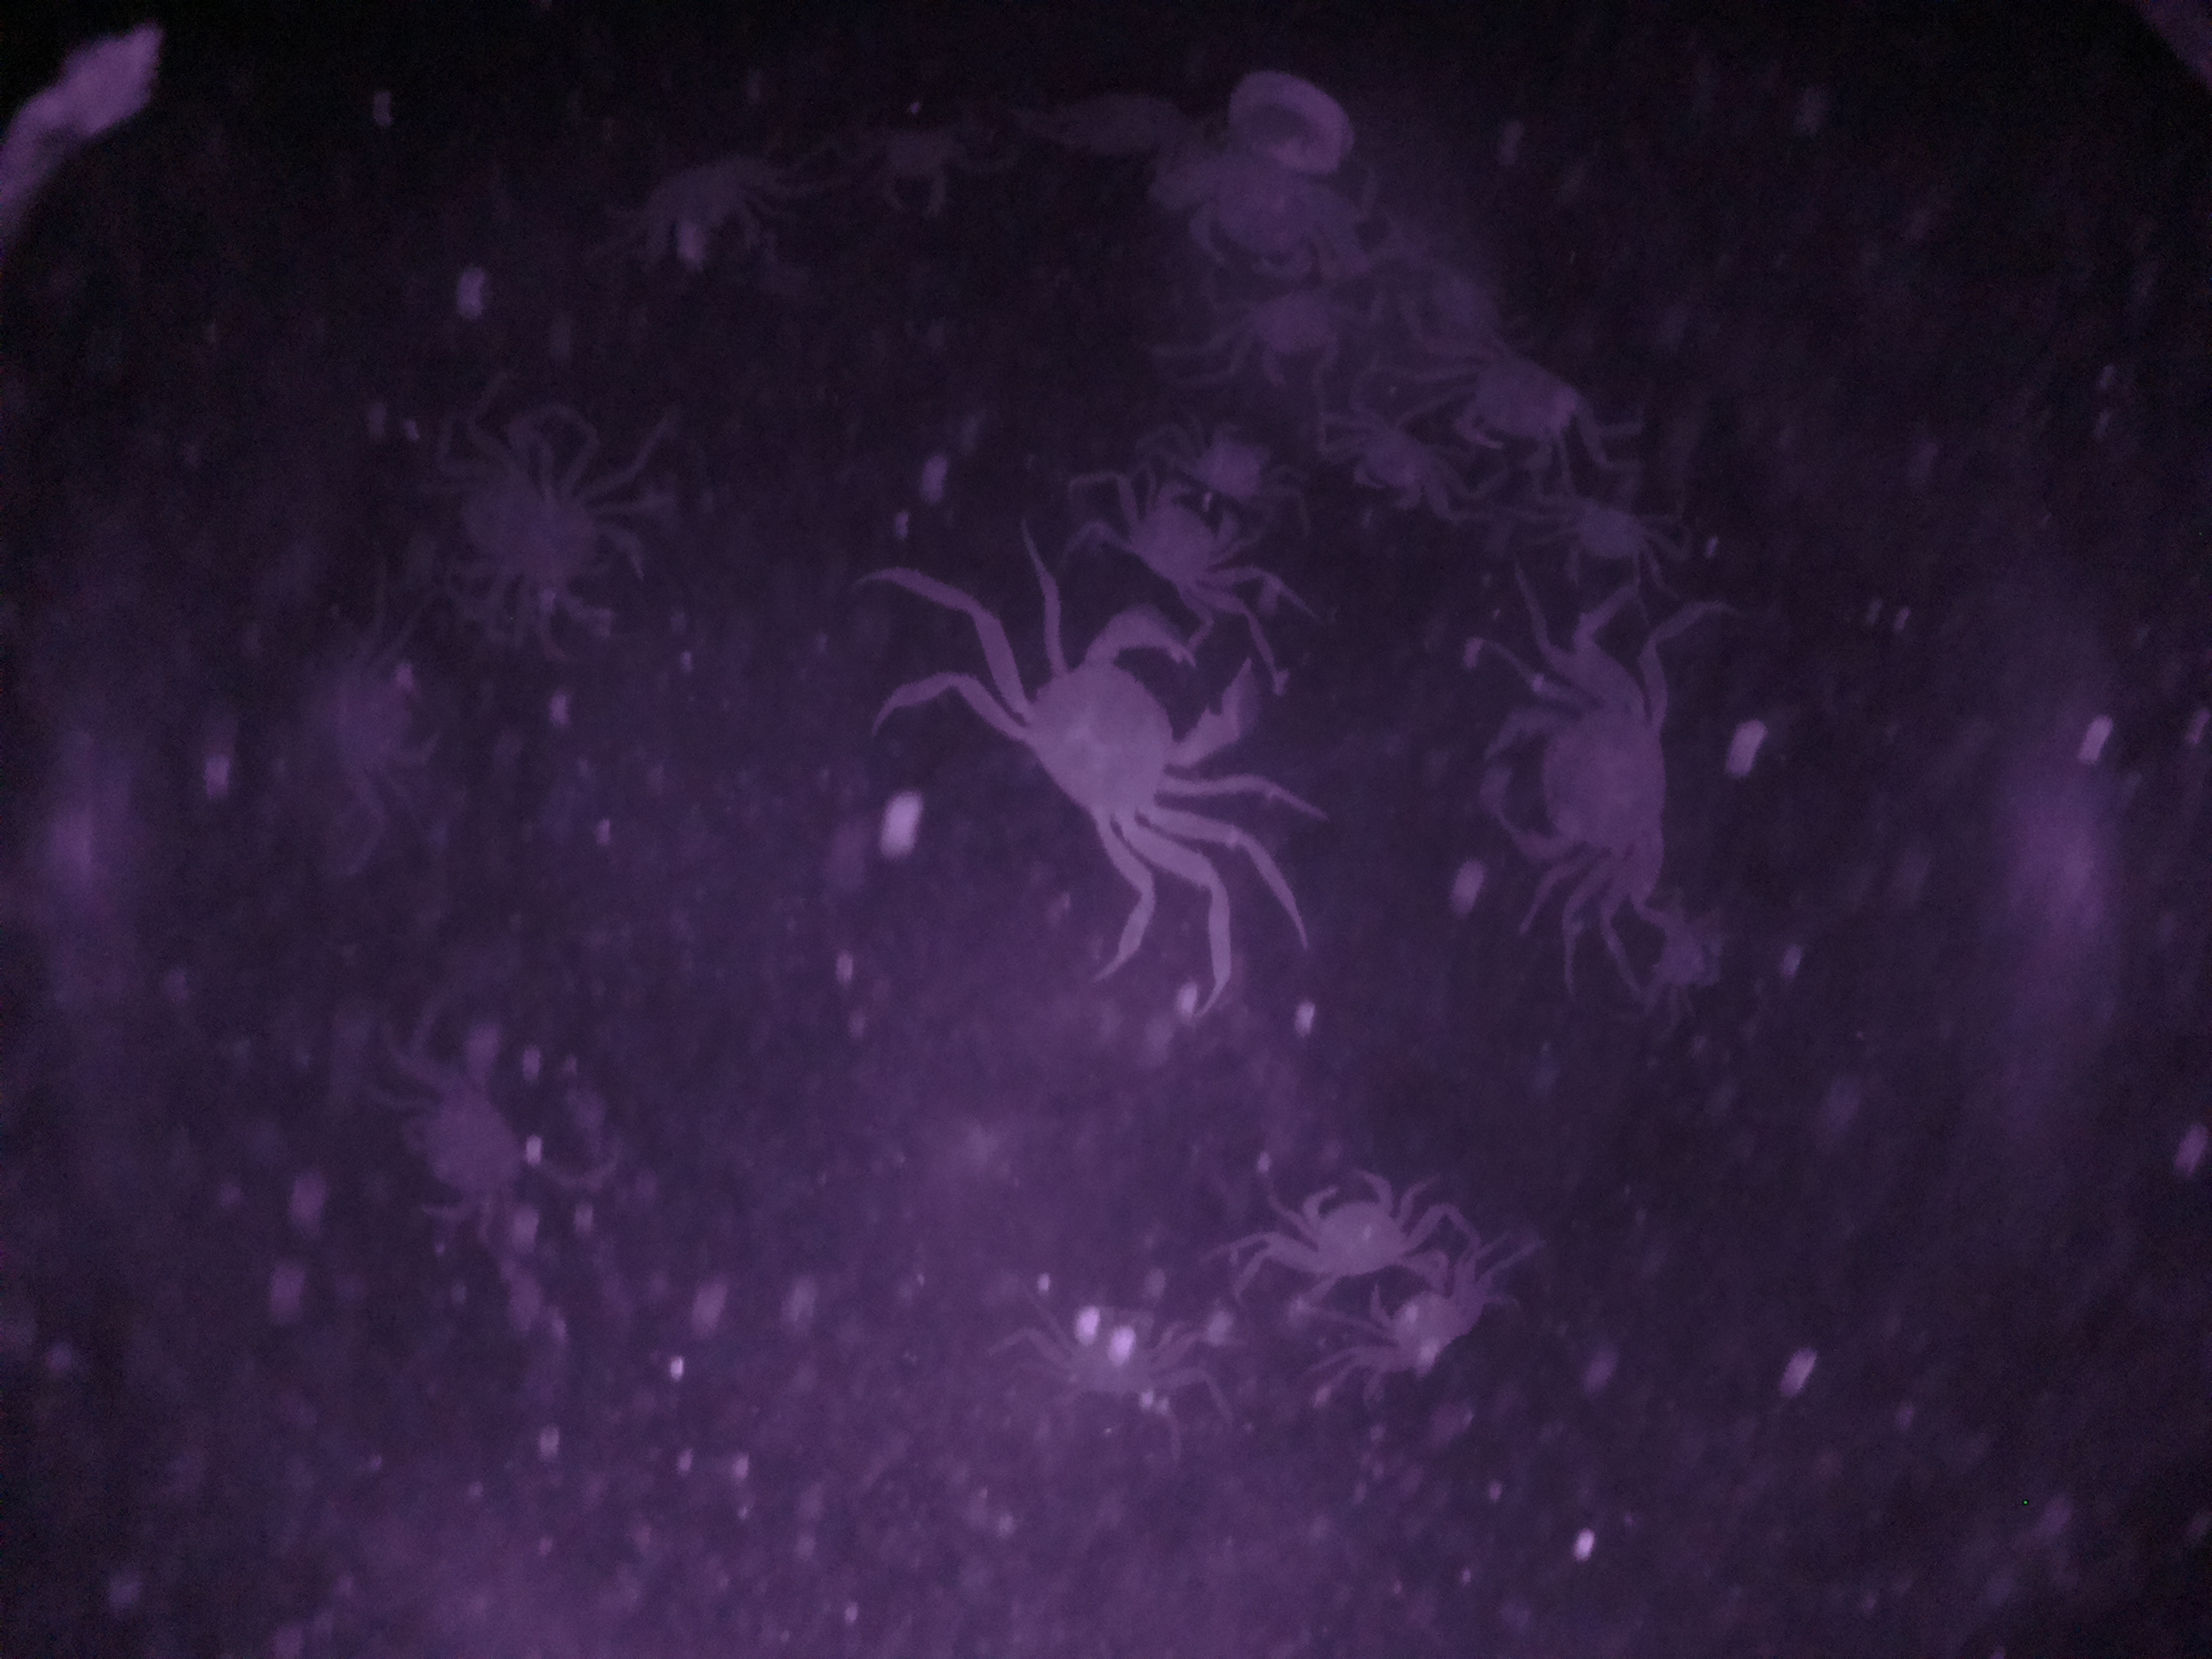Crab: (958, 612, 1273, 894), (1461, 659, 1703, 915), (1097, 467, 1261, 605), (1268, 1157, 1425, 1291), (1324, 403, 1486, 528), (1357, 1253, 1498, 1389), (1547, 486, 1688, 605)
